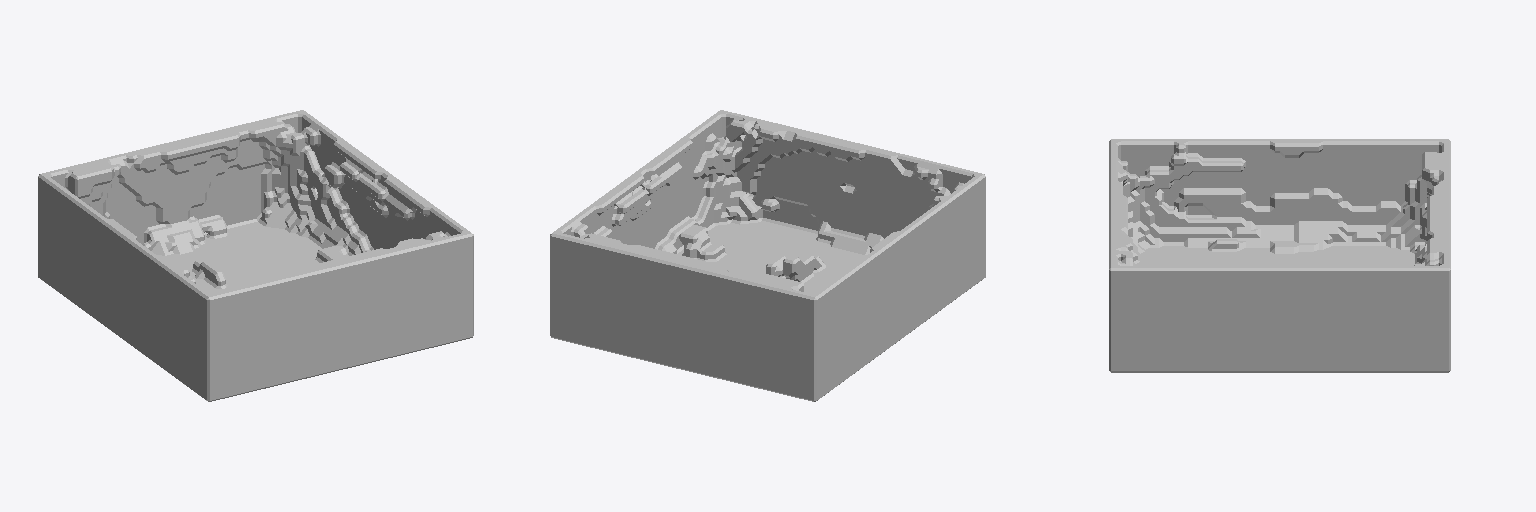
Rendered from Input_prediction_mesh.obj.
3 views of the same model, side by side, from view 1: azimuth 30°, elevation 25°; view 2: azimuth 150°, elevation 25°; view 3: azimuth 270°, elevation 25° (orthographic).
Visible parts, largest first — view 1: mat0, mat1; view 2: mat0, mat3, mat2, mat1; view 3: mat0, mat1.
Boxes of the visible parts, x1=… form: mat0: x1=38, y1=110, x2=473, y2=401; mat1: x1=192, y1=217, x2=396, y2=288; mat0: x1=550, y1=110, x2=985, y2=401; mat3: x1=679, y1=224, x2=725, y2=261; mat2: x1=783, y1=255, x2=816, y2=282; mat1: x1=626, y1=211, x2=668, y2=245; mat0: x1=1109, y1=139, x2=1450, y2=372; mat1: x1=1227, y1=319, x2=1327, y2=344.
Bounding box in the file's own units: 5.12 × 1.92 × 5.68.